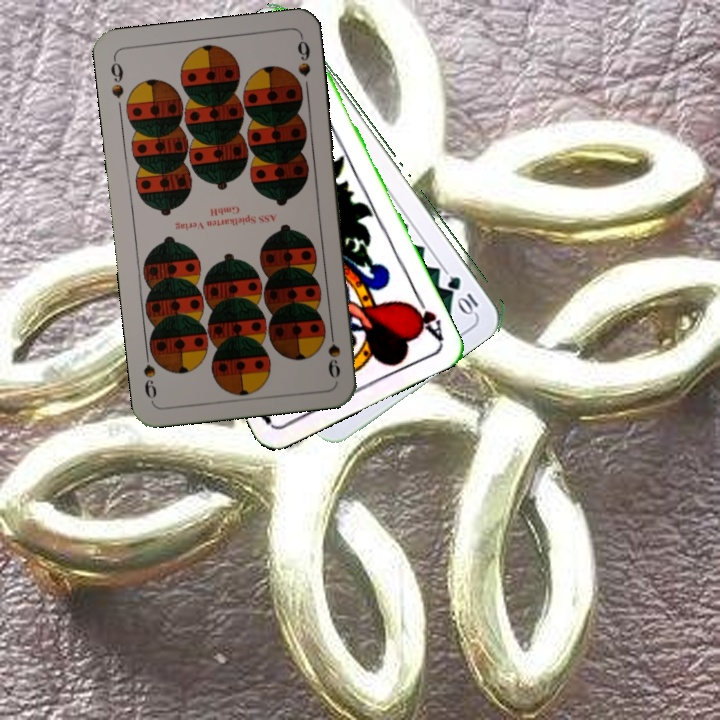G10: (445, 272, 481, 316)
HA: (404, 288, 447, 343)
S9: (324, 322, 343, 380), (107, 54, 127, 101)
